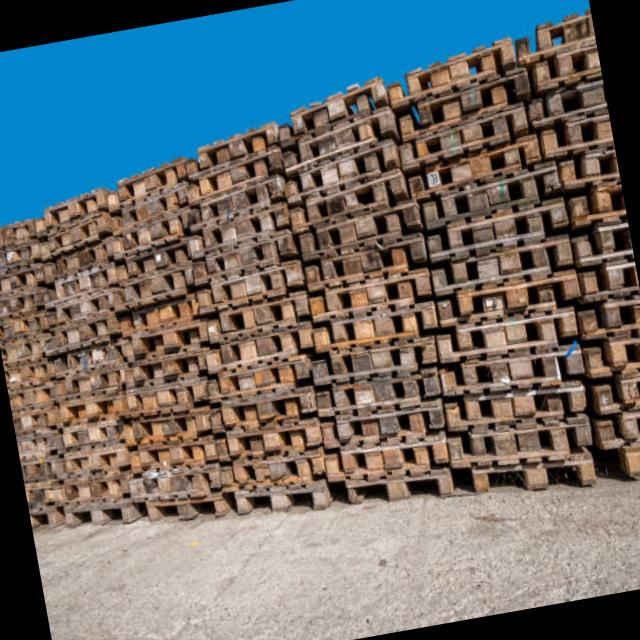Wooden-Pallets: (469, 445, 608, 518), (332, 464, 462, 511), (233, 472, 335, 527), (140, 482, 225, 534), (56, 499, 131, 541)
